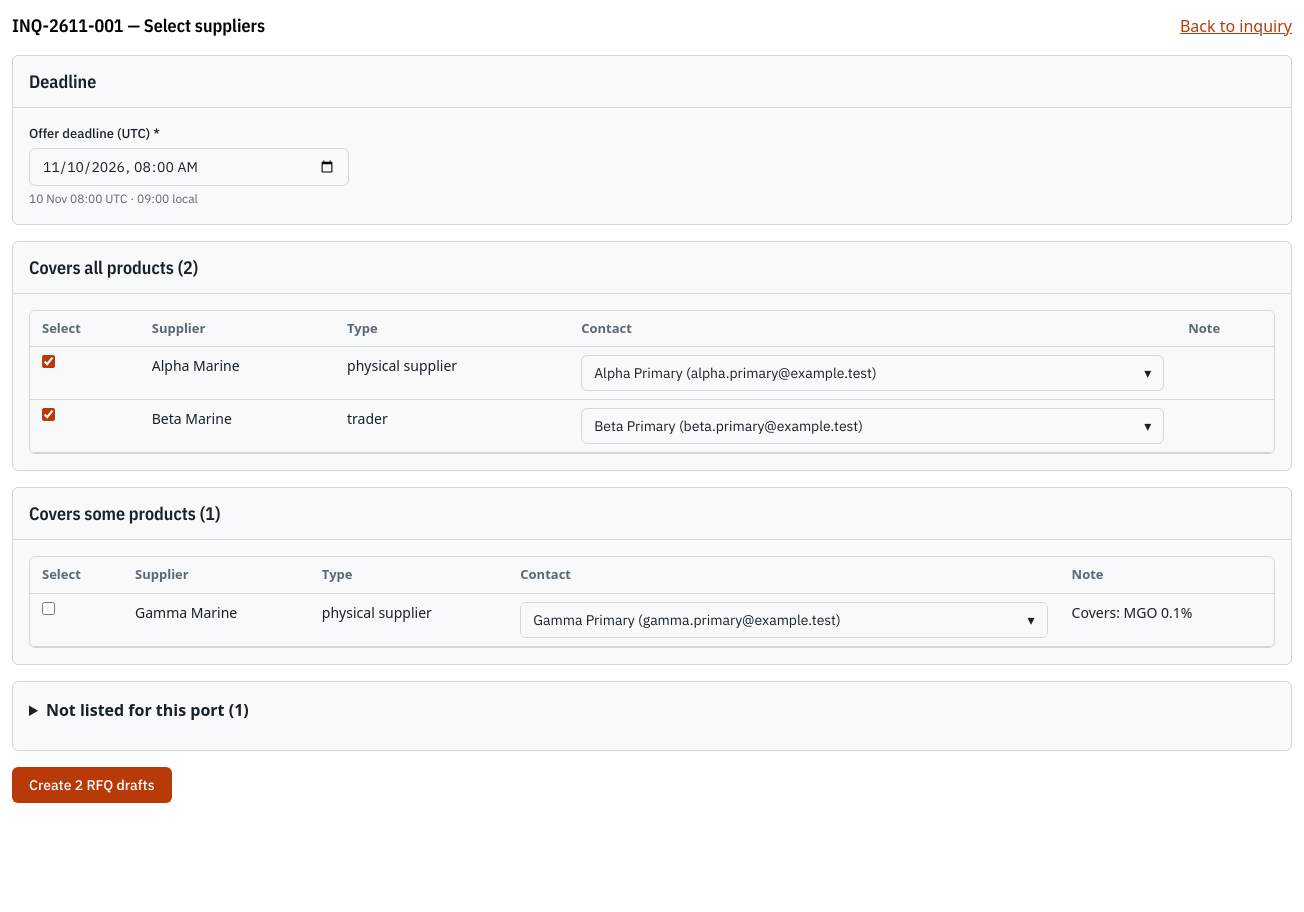
SupplierSelection › [B3-R13] a single draft is announced in the singular
This screenshot has width=1304, height=912.
What coordinates should you click on to do the following:
click the checkbox named "Select Beta Marine" next to "Beta Marine"
I would click on:
 (48, 414)
Its box is [42,408,55,421].
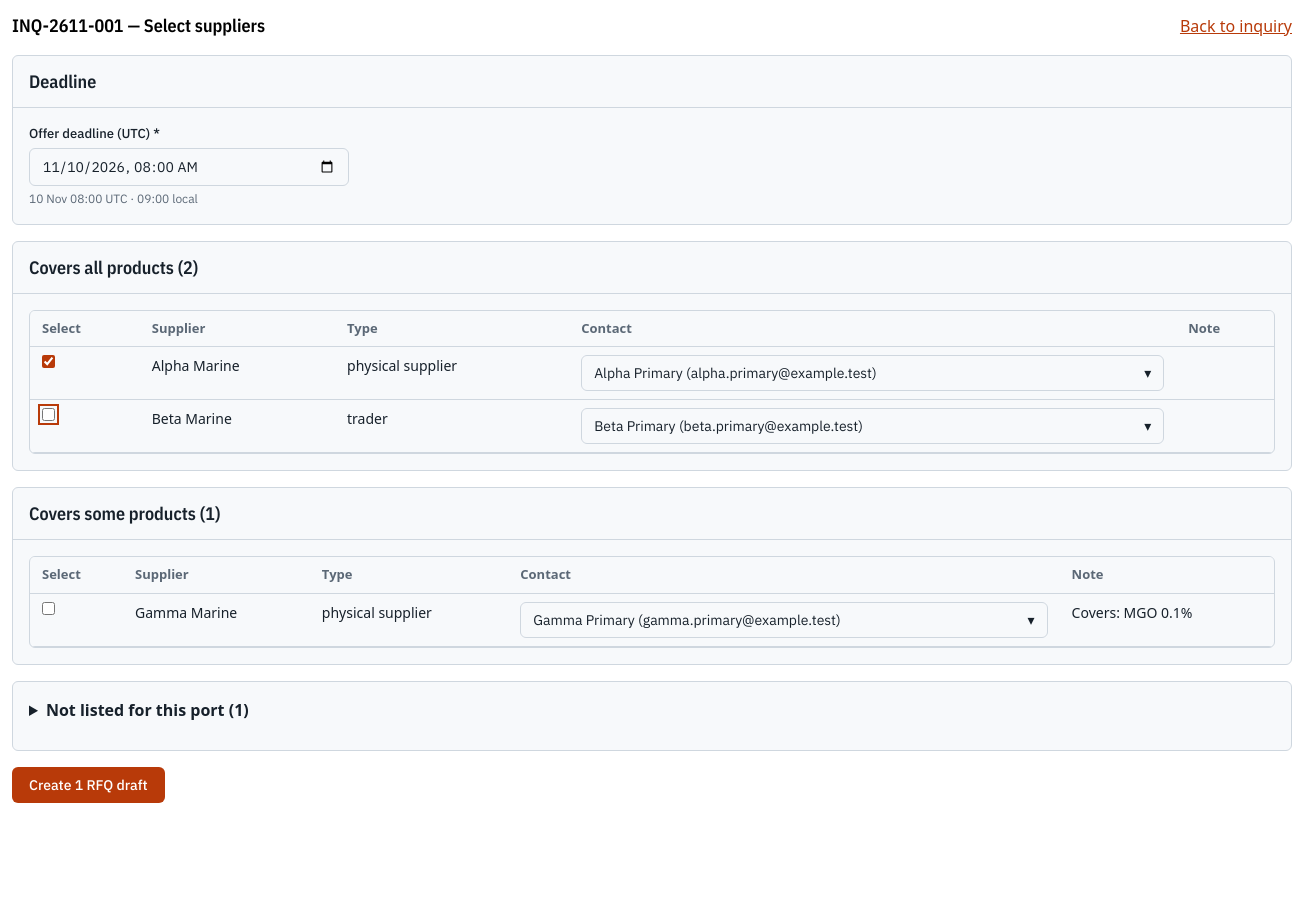
What coordinates should you click on to do the following:
click the button "Create 1 RFQ draft"
I would click on:
 (88, 784)
Its box is [12,766,165,802].
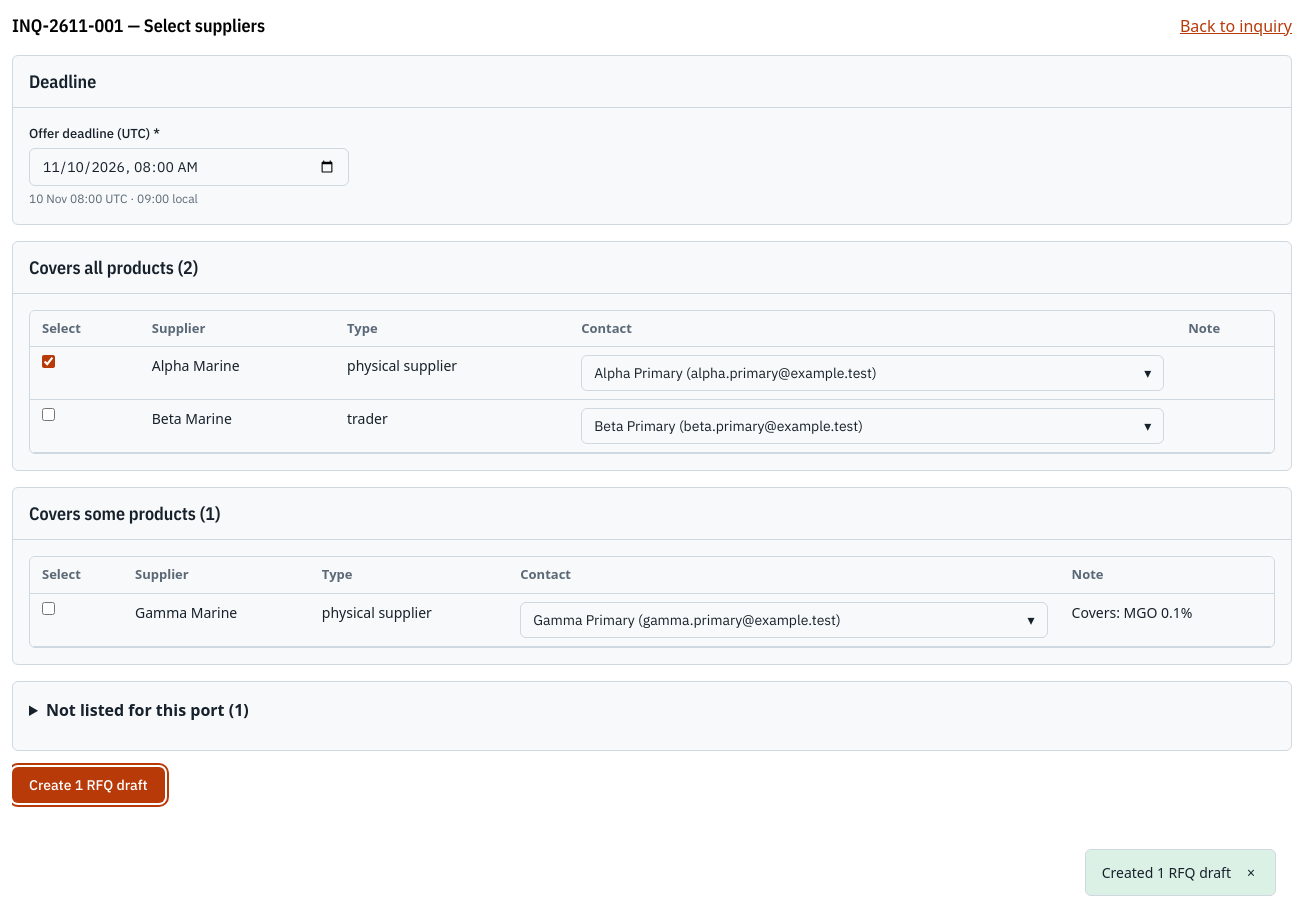
Expected: the text "Created 1 RFQ draft" is shown, [1102,862,1231,883]
